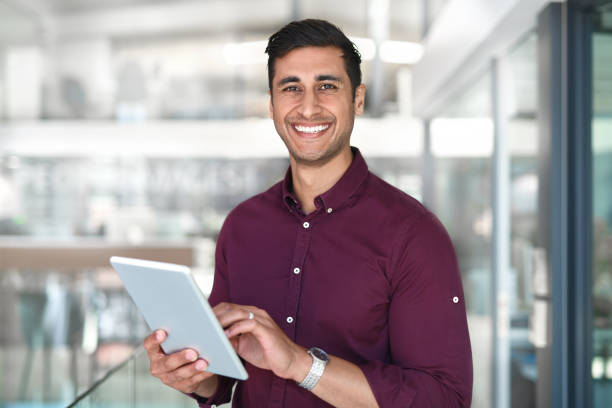Male: (103, 18, 493, 407)
